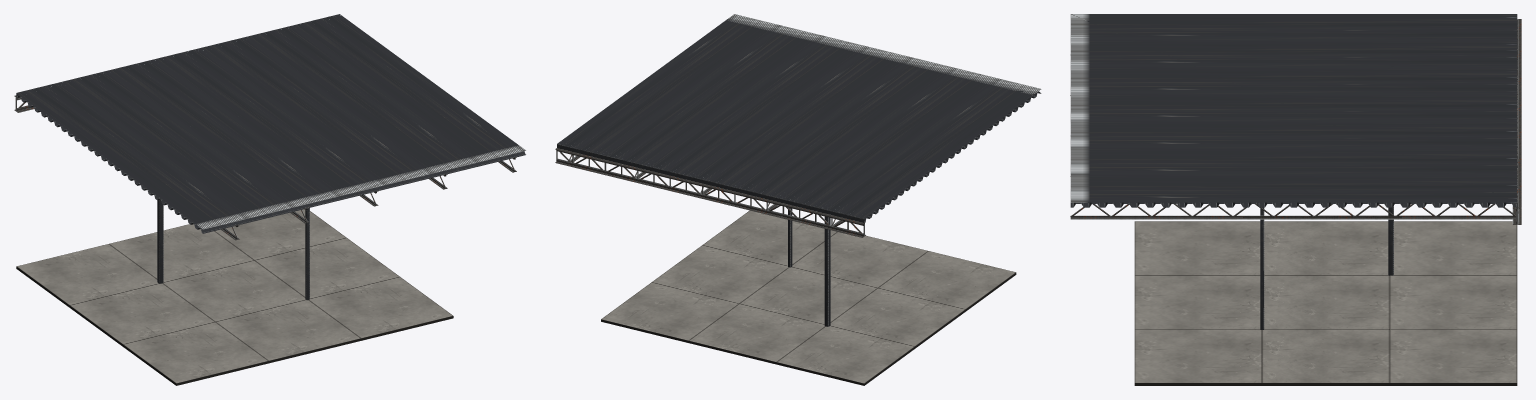
The model's file is Corridor_Corner.fbx.
The picture shows the model from 3 angles, left to right: view 1: azimuth 30°, elevation 25°; view 2: azimuth 150°, elevation 25°; view 3: azimuth 270°, elevation 25°; orthographic projection. The views are drawn at different scales.
Parts seen in each view (by area): view 1: Ceiling, Floor, Trim; view 2: Ceiling, Floor, Trim; view 3: Ceiling, Floor, Trim.
Part boxes in pixels (<box>): Ceiling: <box>14,14,525,240</box>; Floor: <box>16,209,453,385</box>; Trim: <box>157,109,309,300</box>; Ceiling: <box>555,14,1041,237</box>; Floor: <box>601,210,1016,385</box>; Trim: <box>788,101,830,326</box>; Ceiling: <box>1070,14,1521,224</box>; Floor: <box>1134,221,1517,385</box>; Trim: <box>1260,66,1393,329</box>.
Size of the model in its own units: 28.13 by 14.55 by 28.31.
2 materials, 2 textured.
